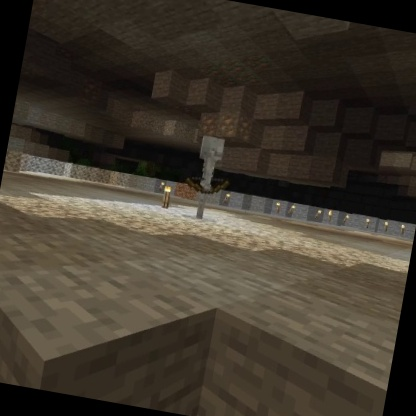skeleton: (176, 128, 240, 226)
